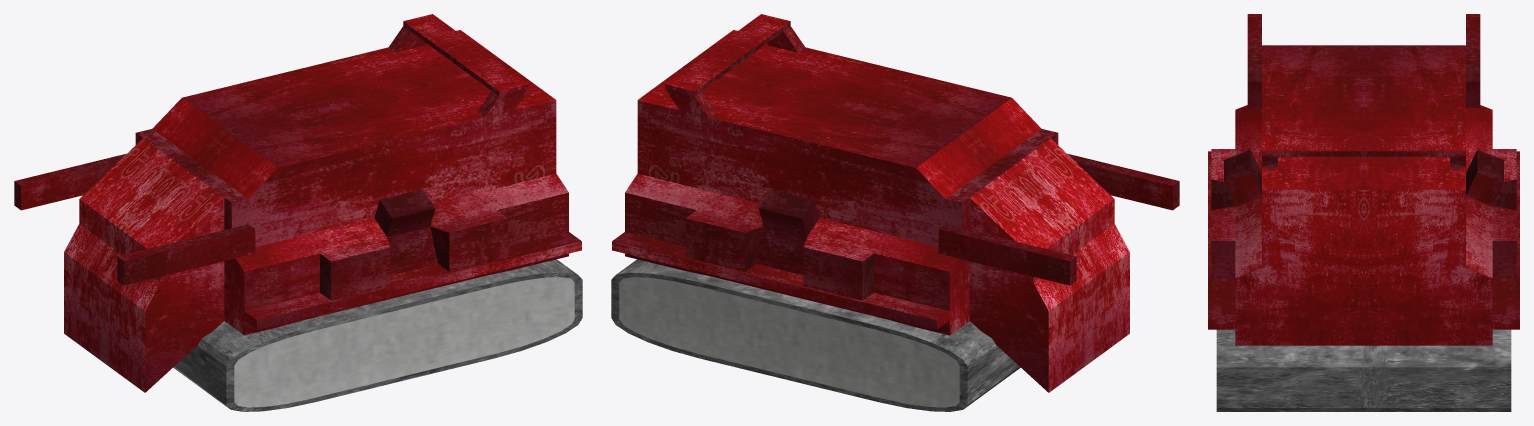
Rendered from Enemy.fbx.
3 views of the same model, side by side, from view 1: azimuth 30°, elevation 25°; view 2: azimuth 150°, elevation 25°; view 3: azimuth 270°, elevation 25° (orthographic). The views are drawn at different scales.
Visible parts, largest first — view 1: Cube, Cube.001; view 2: Cube, Cube.001; view 3: Cube, Cube.001.
Part boxes in pixels (x1,y1,x2,y2): Cube: (14, 14, 581, 392); Cube.001: (173, 259, 582, 411); Cube: (612, 14, 1179, 392); Cube.001: (611, 259, 1020, 411); Cube: (1208, 14, 1519, 345); Cube.001: (1216, 329, 1511, 411).
Bounding box in the file's own units: 457 × 241 × 262.
